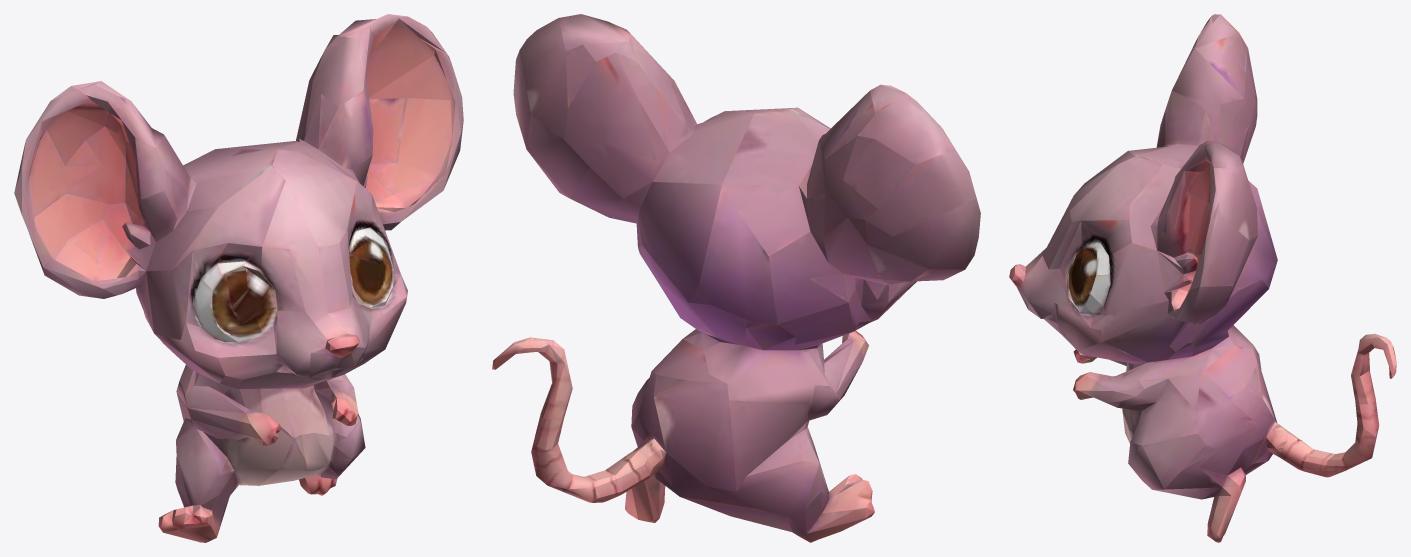
File: rat-6.glb
3 views of the same model, side by side, from view 1: azimuth 30°, elevation 25°; view 2: azimuth 150°, elevation 25°; view 3: azimuth 270°, elevation 25° (orthographic). The views are drawn at different scales.
Size of the model in its own units: 1.87 by 1.89 by 1.58.
Materials: 1 (1 with a texture image).
